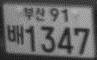1: (25, 24, 39, 52), (60, 7, 70, 22)
3: (40, 25, 56, 53)
4: (57, 26, 72, 53)
7: (73, 27, 90, 54)
9: (49, 7, 59, 22)
배: (6, 23, 24, 46)
부산_H: (24, 7, 45, 21)
